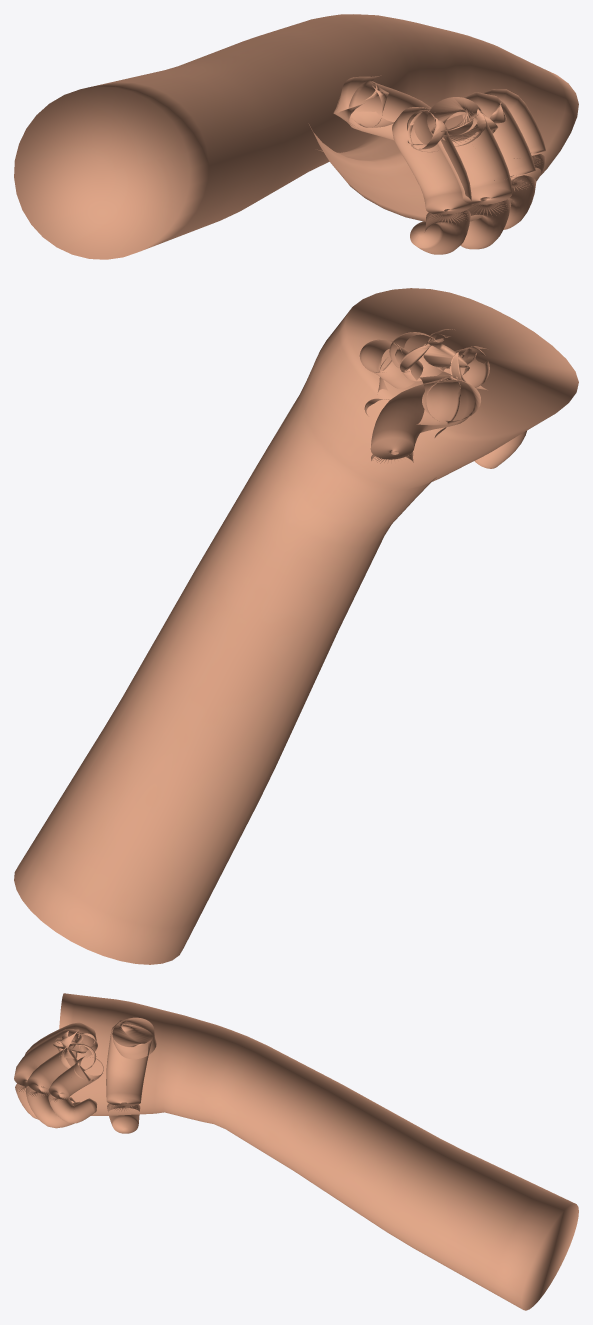
The model's file is hand_fist.glb.
3 renders of one model, top to bottom at view 1: azimuth 30°, elevation 25°; view 2: azimuth 150°, elevation 25°; view 3: azimuth 270°, elevation 25°, orthographic. The views are drawn at different scales.
Parts seen in each view (by area): view 1: hand_fist; view 2: hand_fist; view 3: hand_fist.
Part boxes in pixels (x1=…): hand_fist: x1=14, y1=14, x2=578, y2=259; hand_fist: x1=14, y1=288, x2=578, y2=964; hand_fist: x1=14, y1=993, x2=578, y2=1310.
Bounding box in the file's own units: 0.1047 × 0.1825 × 0.3165.
1 material, 1 textured.
